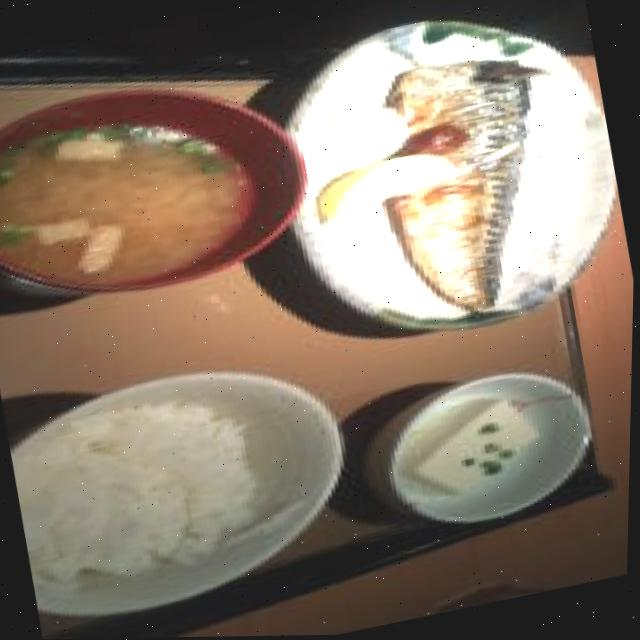米饭主食: (0, 335, 381, 637)
